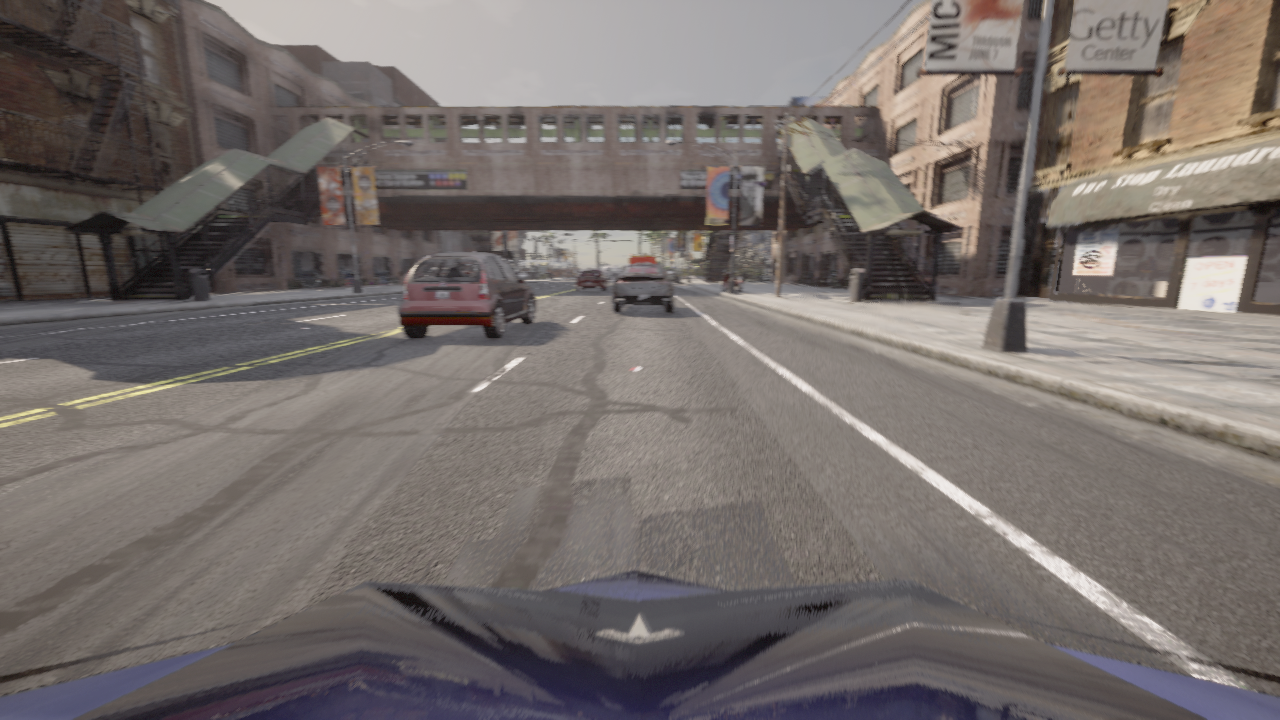cyclist: (0, 569, 1279, 719), (398, 253, 535, 338), (612, 264, 674, 313), (575, 269, 607, 291), (721, 270, 742, 292), (603, 265, 619, 281), (666, 271, 680, 284), (547, 274, 548, 276)
